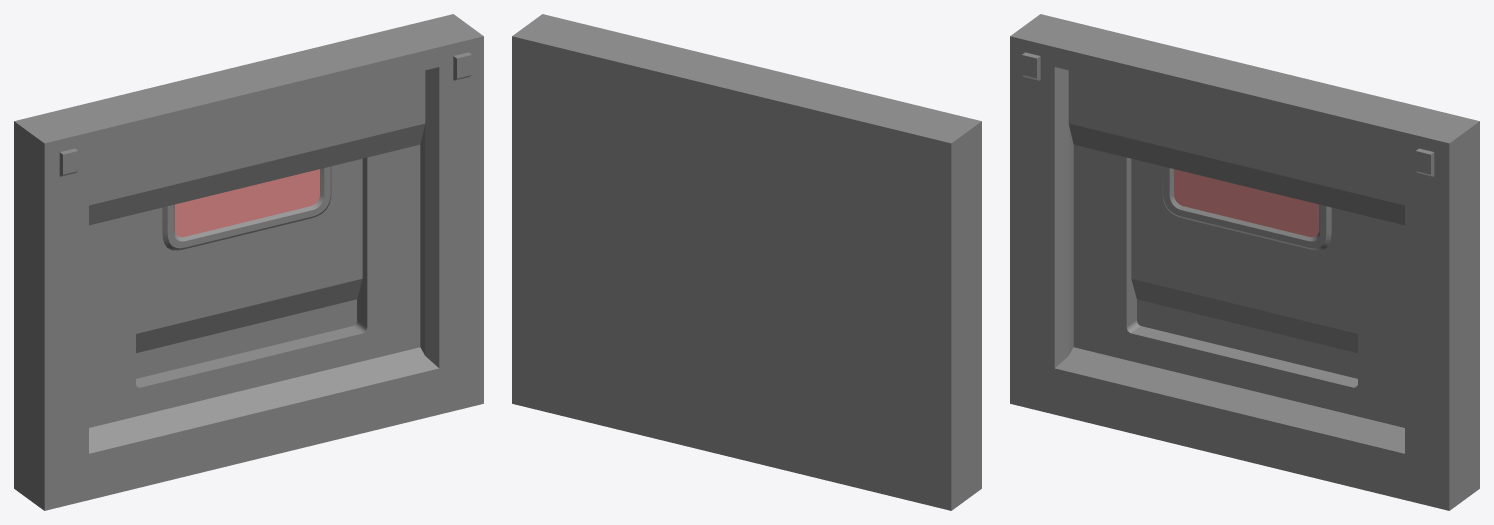
The model's file is S_Envi_FZFBase_Wall_19d.gltf.
3 views of the same model, side by side, from view 1: azimuth 30°, elevation 25°; view 2: azimuth 150°, elevation 25°; view 3: azimuth 330°, elevation 25° (orthographic).
Parts seen in each view (by area): view 1: S_Envi_FZFBase_Wall_19d; view 2: S_Envi_FZFBase_Wall_19d; view 3: S_Envi_FZFBase_Wall_19d.
Part boxes in pixels (x1,y1,x2,y2): S_Envi_FZFBase_Wall_19d: (14,14,483,510); S_Envi_FZFBase_Wall_19d: (512,14,981,510); S_Envi_FZFBase_Wall_19d: (1010,14,1479,510).
Size of the model in its own units: 5 by 4 by 0.6679.
